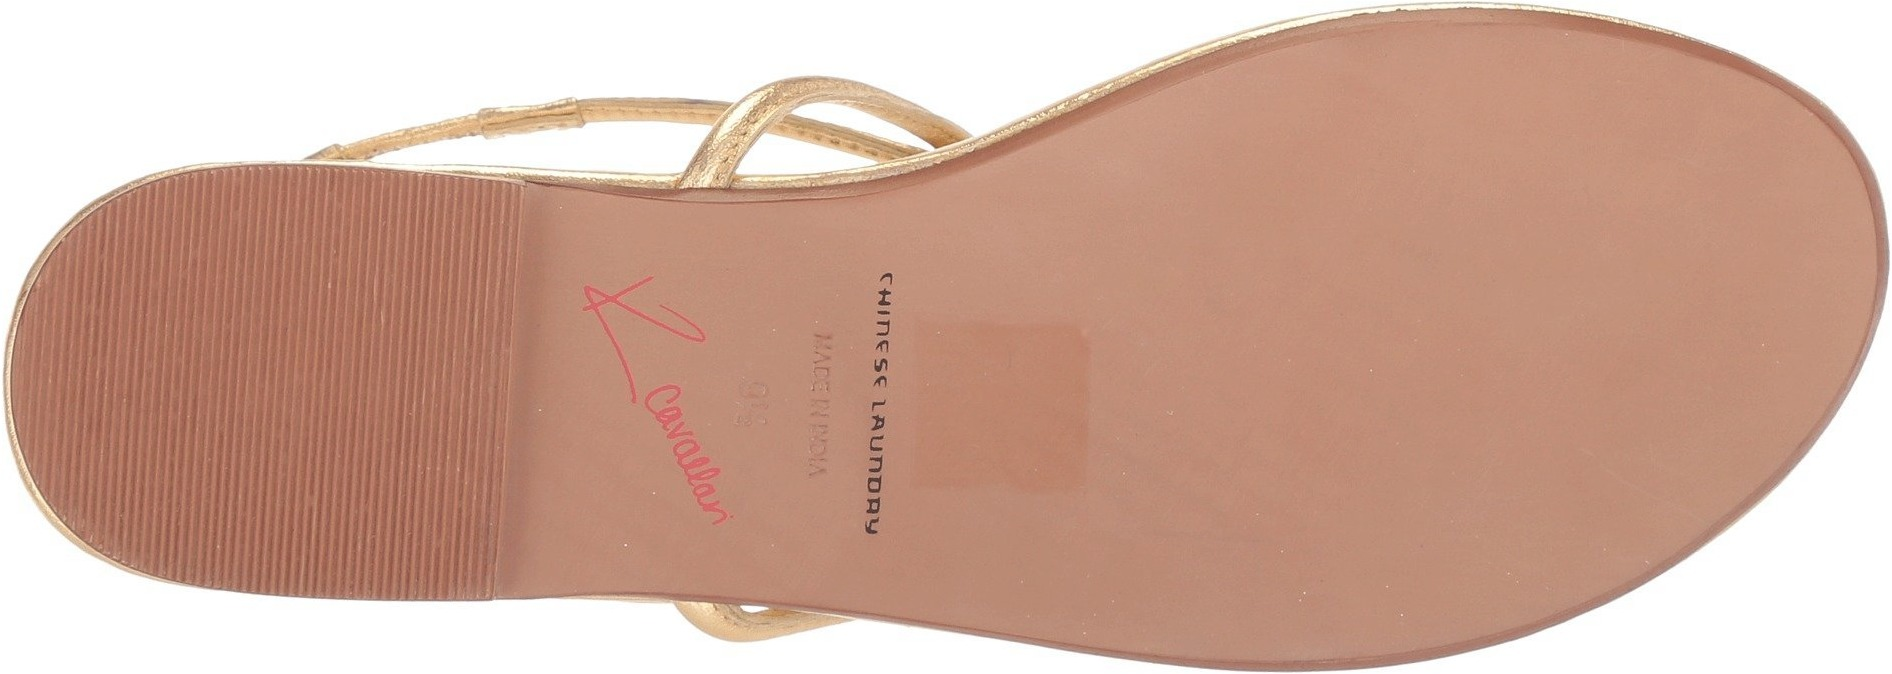exclude: (510, 593, 884, 670)
line: (256, 174, 509, 433), (89, 361, 249, 553), (87, 223, 249, 376), (293, 438, 420, 593)
other: (1076, 165, 1359, 430), (1362, 61, 1662, 304), (1363, 310, 1639, 565), (1133, 436, 1363, 644), (1663, 199, 1858, 380)
text: (570, 253, 752, 561)
